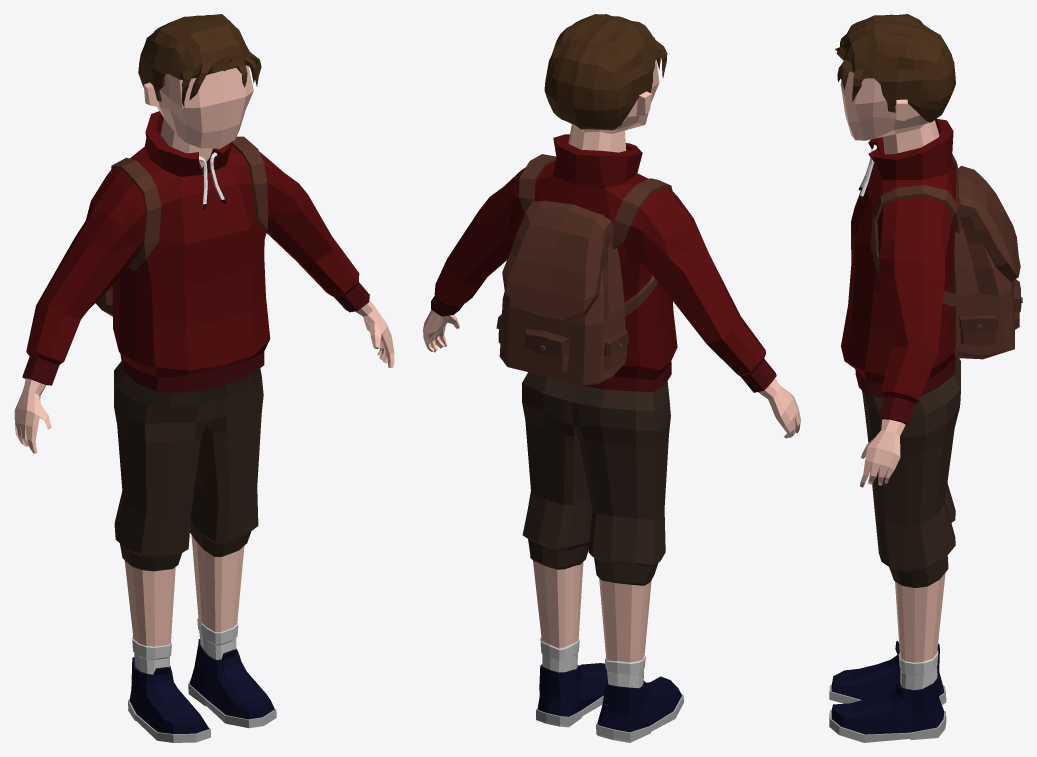
Rendered from staysane-char 1.fbx.
The picture shows the model from 3 angles, left to right: view 1: azimuth 30°, elevation 25°; view 2: azimuth 150°, elevation 25°; view 3: azimuth 270°, elevation 25°; orthographic projection.
Parts seen in each view (by area): view 1: Cube; view 2: Cube; view 3: Cube.
Boxes of the visible parts, x1,y1,x2,y2 form: Cube: (14,14,394,742); Cube: (423,14,800,742); Cube: (829,14,1022,742).
Bounding box in the file's own units: 1078 × 1934 × 490.
